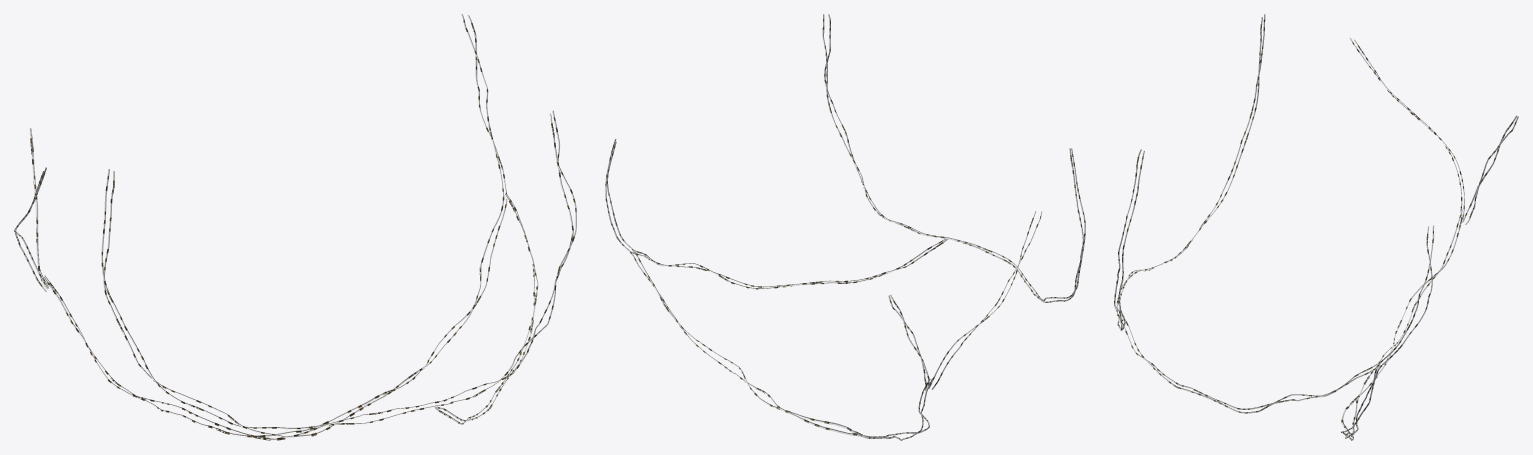
File: VFX_HighwayTrafficStrips.fbx
3 renders of one model, left to right at view 1: azimuth 30°, elevation 25°; view 2: azimuth 150°, elevation 25°; view 3: azimuth 270°, elevation 25°, orthographic. The views are drawn at different scales.
Visible parts, largest first — view 1: VFX_TrafficStrip.009, VFX_TrafficStrip.002, VFX_TrafficStrip.006, VFX_TrafficStrip.010, VFX_TrafficStrip.005, VFX_TrafficStrip.001; view 2: VFX_TrafficStrip.006, VFX_TrafficStrip.009, VFX_TrafficStrip.010, VFX_TrafficStrip.002, VFX_TrafficStrip.005, VFX_TrafficStrip.001; view 3: VFX_TrafficStrip.002, VFX_TrafficStrip.006, VFX_TrafficStrip.009, VFX_TrafficStrip.010, VFX_TrafficStrip.001, VFX_TrafficStrip.005.
Boxes of the visible parts, x1,y1,x2,y2 form: VFX_TrafficStrip.009: [44, 14, 504, 440]; VFX_TrafficStrip.002: [101, 113, 576, 429]; VFX_TrafficStrip.006: [103, 110, 573, 437]; VFX_TrafficStrip.010: [43, 15, 507, 437]; VFX_TrafficStrip.005: [435, 194, 538, 424]; VFX_TrafficStrip.001: [435, 194, 534, 421]; VFX_TrafficStrip.006: [822, 14, 1084, 300]; VFX_TrafficStrip.009: [606, 141, 930, 438]; VFX_TrafficStrip.010: [605, 139, 932, 440]; VFX_TrafficStrip.002: [824, 14, 1085, 302]; VFX_TrafficStrip.005: [631, 237, 949, 287]; VFX_TrafficStrip.001: [634, 238, 946, 289]; VFX_TrafficStrip.002: [1114, 14, 1265, 329]; VFX_TrafficStrip.006: [1118, 17, 1262, 330]; VFX_TrafficStrip.009: [1340, 210, 1464, 440]; VFX_TrafficStrip.010: [1345, 209, 1462, 438]; VFX_TrafficStrip.001: [1116, 307, 1378, 413]; VFX_TrafficStrip.005: [1114, 307, 1380, 409].
Size of the model in its own units: 200116 by 150079 by 170754.
